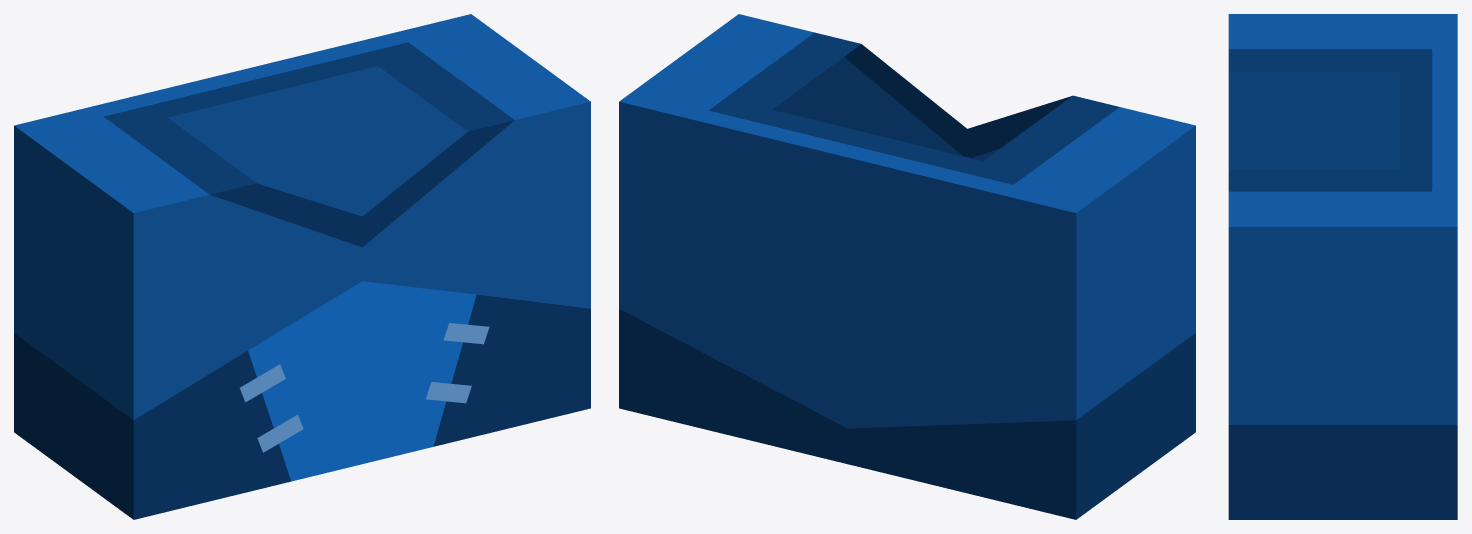
The model's file is Armor 04.FBX.
3 renders of one model, left to right at view 1: azimuth 30°, elevation 25°; view 2: azimuth 150°, elevation 25°; view 3: azimuth 270°, elevation 25°, orthographic. The views are drawn at different scales.
Visible parts, largest first — view 1: Armor 04; view 2: Armor 04; view 3: Armor 04.
Boxes of the visible parts, left/top/right/bottom form: Armor 04: left=14, top=14, right=590, bottom=519; Armor 04: left=619, top=14, right=1195, bottom=519; Armor 04: left=1228, top=14, right=1457, bottom=519.
Bounding box in the file's own units: 48.43 × 31.05 × 22.39.
1 material, 1 textured.
